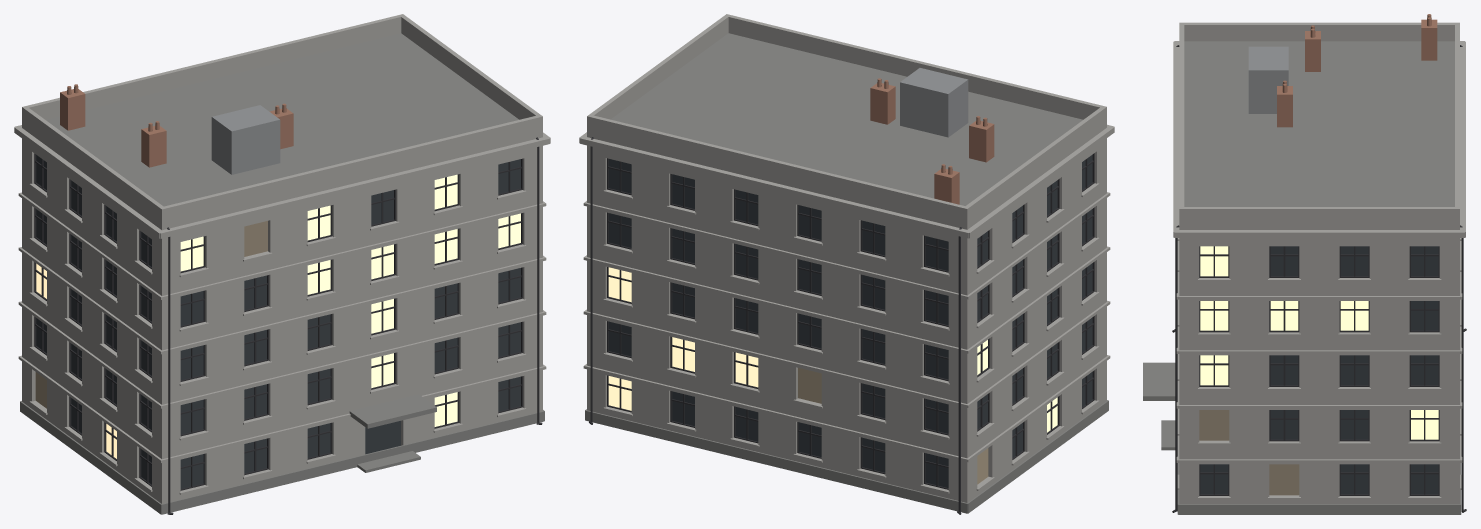
File: party_block_b.glb
3 views of the same model, side by side, from view 1: azimuth 30°, elevation 25°; view 2: azimuth 150°, elevation 25°; view 3: azimuth 270°, elevation 25° (orthographic).
Visible parts, largest first — view 1: party_block_b; view 2: party_block_b; view 3: party_block_b.
Boxes of the visible parts, box(x1,y1,x2,y2) form: party_block_b: box(14, 14, 550, 514); party_block_b: box(579, 14, 1114, 514); party_block_b: box(1143, 14, 1466, 514).
Size of the model in its own units: 22.6 by 18.34 by 16.15.
